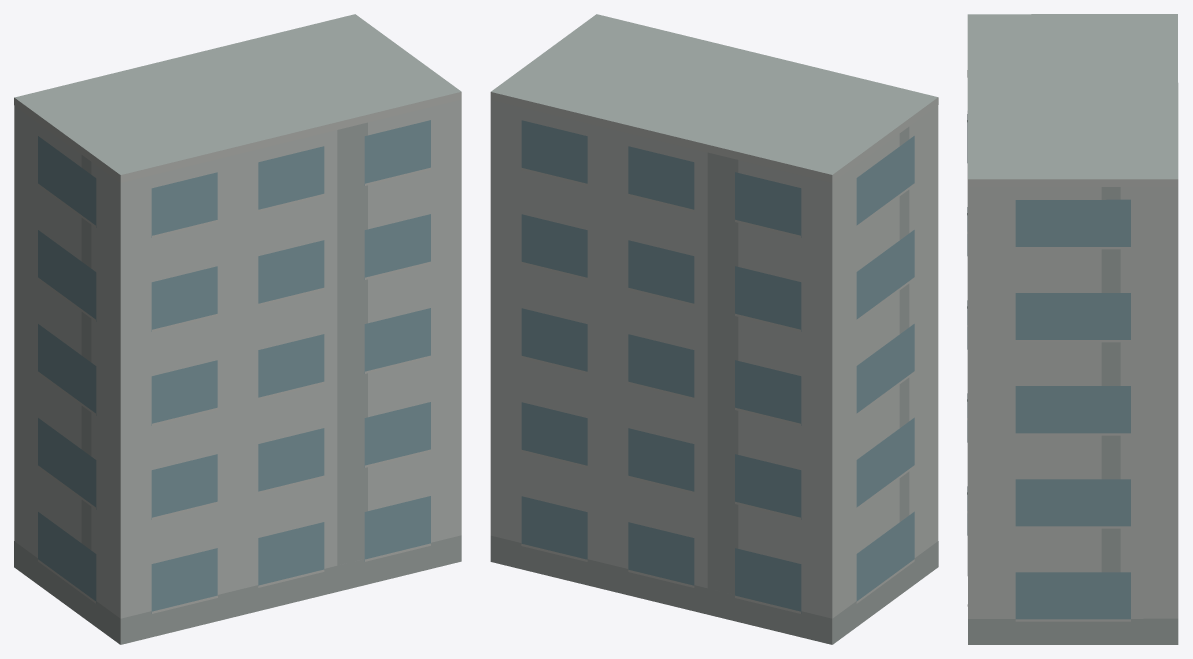
The model's file is survey-upis-32728810.glb.
The picture shows the model from 3 angles, left to right: view 1: azimuth 30°, elevation 25°; view 2: azimuth 150°, elevation 25°; view 3: azimuth 270°, elevation 25°; orthographic projection.
Visible parts, largest first — view 1: survey-upis-32728810.tmp; view 2: survey-upis-32728810.tmp; view 3: survey-upis-32728810.tmp.
Boxes of the visible parts, left/top/right/bottom form: survey-upis-32728810.tmp: left=14, top=14, right=461, bottom=644; survey-upis-32728810.tmp: left=490, top=14, right=938, bottom=644; survey-upis-32728810.tmp: left=967, top=14, right=1178, bottom=644.
Size of the model in its own units: 11.13 by 14.6 by 6.02.
